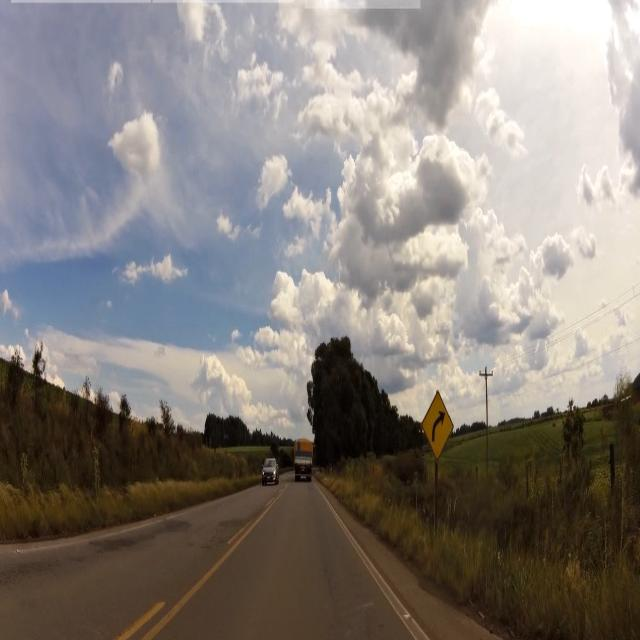A-2b: (422, 387, 452, 460)
